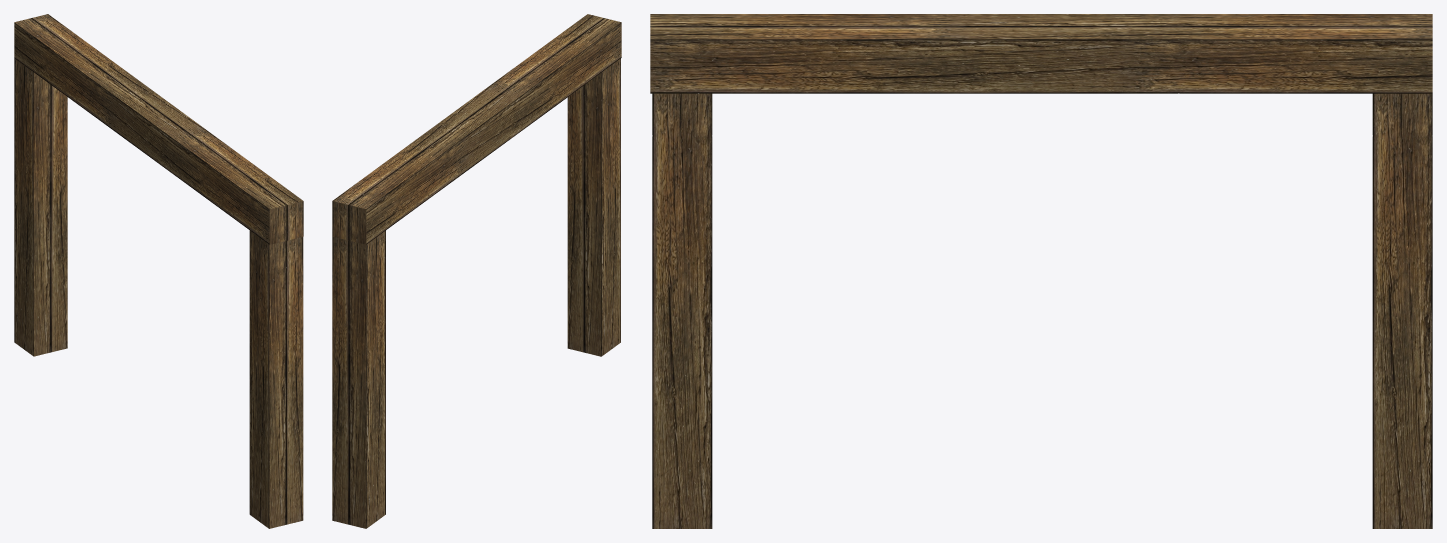
Rendered from supportARCH001.dae.
The picture shows the model from 3 angles, left to right: view 1: azimuth 30°, elevation 25°; view 2: azimuth 150°, elevation 25°; view 3: azimuth 270°, elevation 25°; orthographic projection. The views are drawn at different scales.
Visible parts, largest first — view 1: supportARCH001; view 2: supportARCH001; view 3: supportARCH001.
Boxes of the visible parts, bbox=[...] form: supportARCH001: bbox=[14, 14, 303, 528]; supportARCH001: bbox=[332, 14, 621, 528]; supportARCH001: bbox=[650, 14, 1432, 528].
Bounding box in the file's own units: 1 × 13.03 × 9.
Materials: 1 (1 with a texture image).
